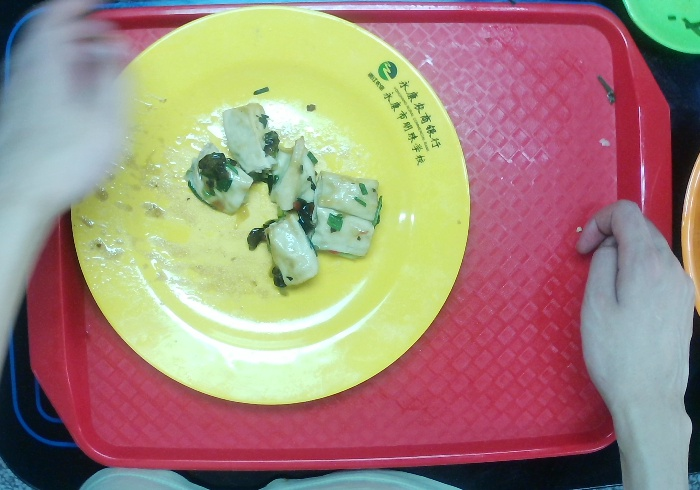YKMZ-Huang_Se_Mian_Pan: (67, 4, 472, 406)
